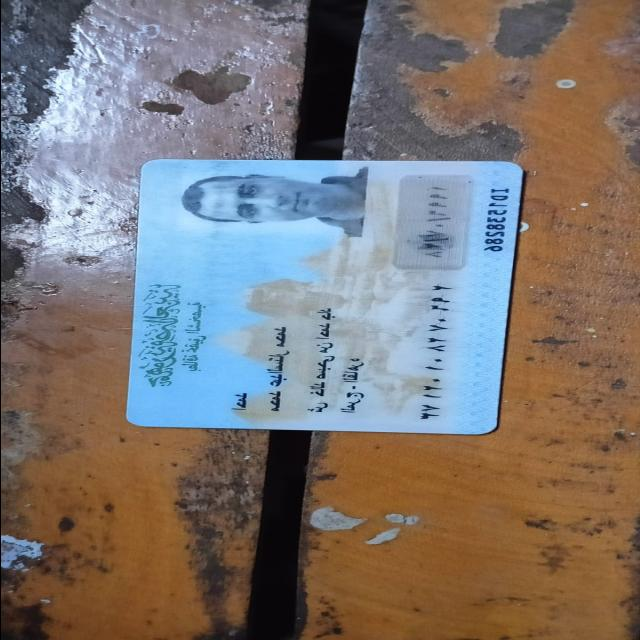id_card: (116, 152, 530, 439)
